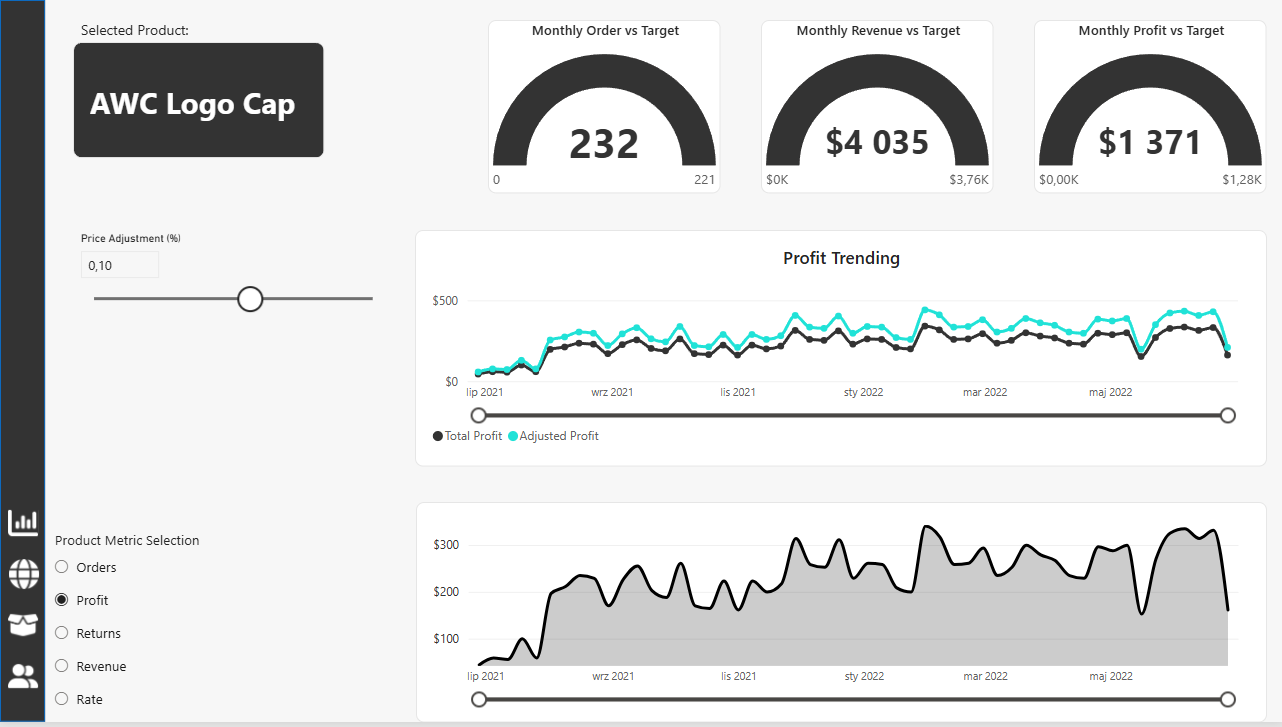

This screenshot's page, from the dashboard's own definition file:
{"tool":"powerbi","page":{"name":"Product Detail","canvas":[1280,720],"ordinal":2},"visuals":[{"type":"shape","box":[0,0,45,720],"z":0},{"type":"gauge","title":"Monthly Order vs Target","fields":{"MaxValue":["Measure Table.Order Target"],"Y":["Measure Table.Total Orders"]},"box":[486.7,19.7,232.3,173.1],"z":1000},{"type":"actionButton","box":[0.8,602.7,44.7,41],"z":1000,"group":"g1"},{"type":"gauge","title":"Monthly Revenue vs Target","fields":{"MaxValue":["Measure Table.Revenue Target"],"Y":["Measure Table.Total Revenue"]},"box":[759.1,19.7,232.3,173.1],"z":2000},{"type":"actionButton","box":[1.4,551.8,43.5,41],"z":2000,"group":"g1"},{"type":"gauge","title":"Monthly Profit vs Target","fields":{"MaxValue":["Measure Table.Profit Target"],"Y":["Measure Table.Total Profit"]},"box":[1031.4,19.7,232.3,173.1],"z":3000},{"type":"actionButton","box":[0.8,500.8,44.7,41],"z":3000,"group":"g1"},{"type":"lineChart","title":"Profit Trending","fields":{"Category":["Calendar Lookup.Date Hierarchy.Year","Calendar Lookup.Date Hierarchy.Start of Month","Calendar Lookup.Date Hierarchy.Start of Week","Calendar Lookup.Date Hierarchy.Date"],"Y":["Measure Table.Total Profit","Measure Table.Adjusted Profit"]},"box":[414.2,229.8,849.6,235.8],"z":4000},{"type":"actionButton","box":[0.8,653.7,44.7,41],"z":4000,"group":"g1"},{"type":"areaChart","title":"Return Trending","fields":{"Category":["Calendar Lookup.Date Hierarchy.Year","Calendar Lookup.Date Hierarchy.Start of Month","Calendar Lookup.Date Hierarchy.Start of Week","Calendar Lookup.Date Hierarchy.Date"],"Y":["Measure Table.Total Profit"]},"box":[414.7,500.6,849.1,219.5],"z":5000},{"type":"cardVisual","fields":{"Data":["Min(Product Lookup.ProductName)"]},"box":[73,42.1,251.7,117],"z":6000},{"type":"textbox","box":[81.3,19.7,199.8,22.1],"z":7000},{"type":"group","id":"g1","title":"Nav buttons","box":[0.8,500.8,44.7,193.9],"z":8000},{"type":"slicer","fields":{"Values":["Price Adjustment.Price Adjustment"]},"box":[73,231.1,317.5,116.9],"z":9000},{"type":"slicer","fields":{"Values":["Product Metric Selection.Product Metric Selection"]},"box":[46.5,529.7,173.1,190.5],"z":10000}]}

Visuals, with their boxes on the page's 1280x720 design canvas (x1, y1, x2, y2). These are canvas units, not pixel positions in the 1282x727 screenshot, which may show the page scaled, cropped or inside an application window:
shape: region(0, 0, 45, 720)
"Monthly Order vs Target" gauge: region(487, 20, 719, 193)
actionButton: region(1, 603, 46, 644)
"Monthly Revenue vs Target" gauge: region(759, 20, 991, 193)
actionButton: region(1, 552, 45, 593)
"Monthly Profit vs Target" gauge: region(1031, 20, 1264, 193)
actionButton: region(1, 501, 46, 542)
"Profit Trending" lineChart: region(414, 230, 1264, 466)
actionButton: region(1, 654, 46, 695)
"Return Trending" areaChart: region(415, 501, 1264, 720)
cardVisual - Min(Product Lookup.ProductName): region(73, 42, 325, 159)
textbox: region(81, 20, 281, 42)
"Nav buttons" group: region(1, 501, 46, 695)
slicer - Price Adjustment.Price Adjustment: region(73, 231, 390, 348)
slicer - Product Metric Selection.Product Metric Selection: region(46, 530, 220, 720)
